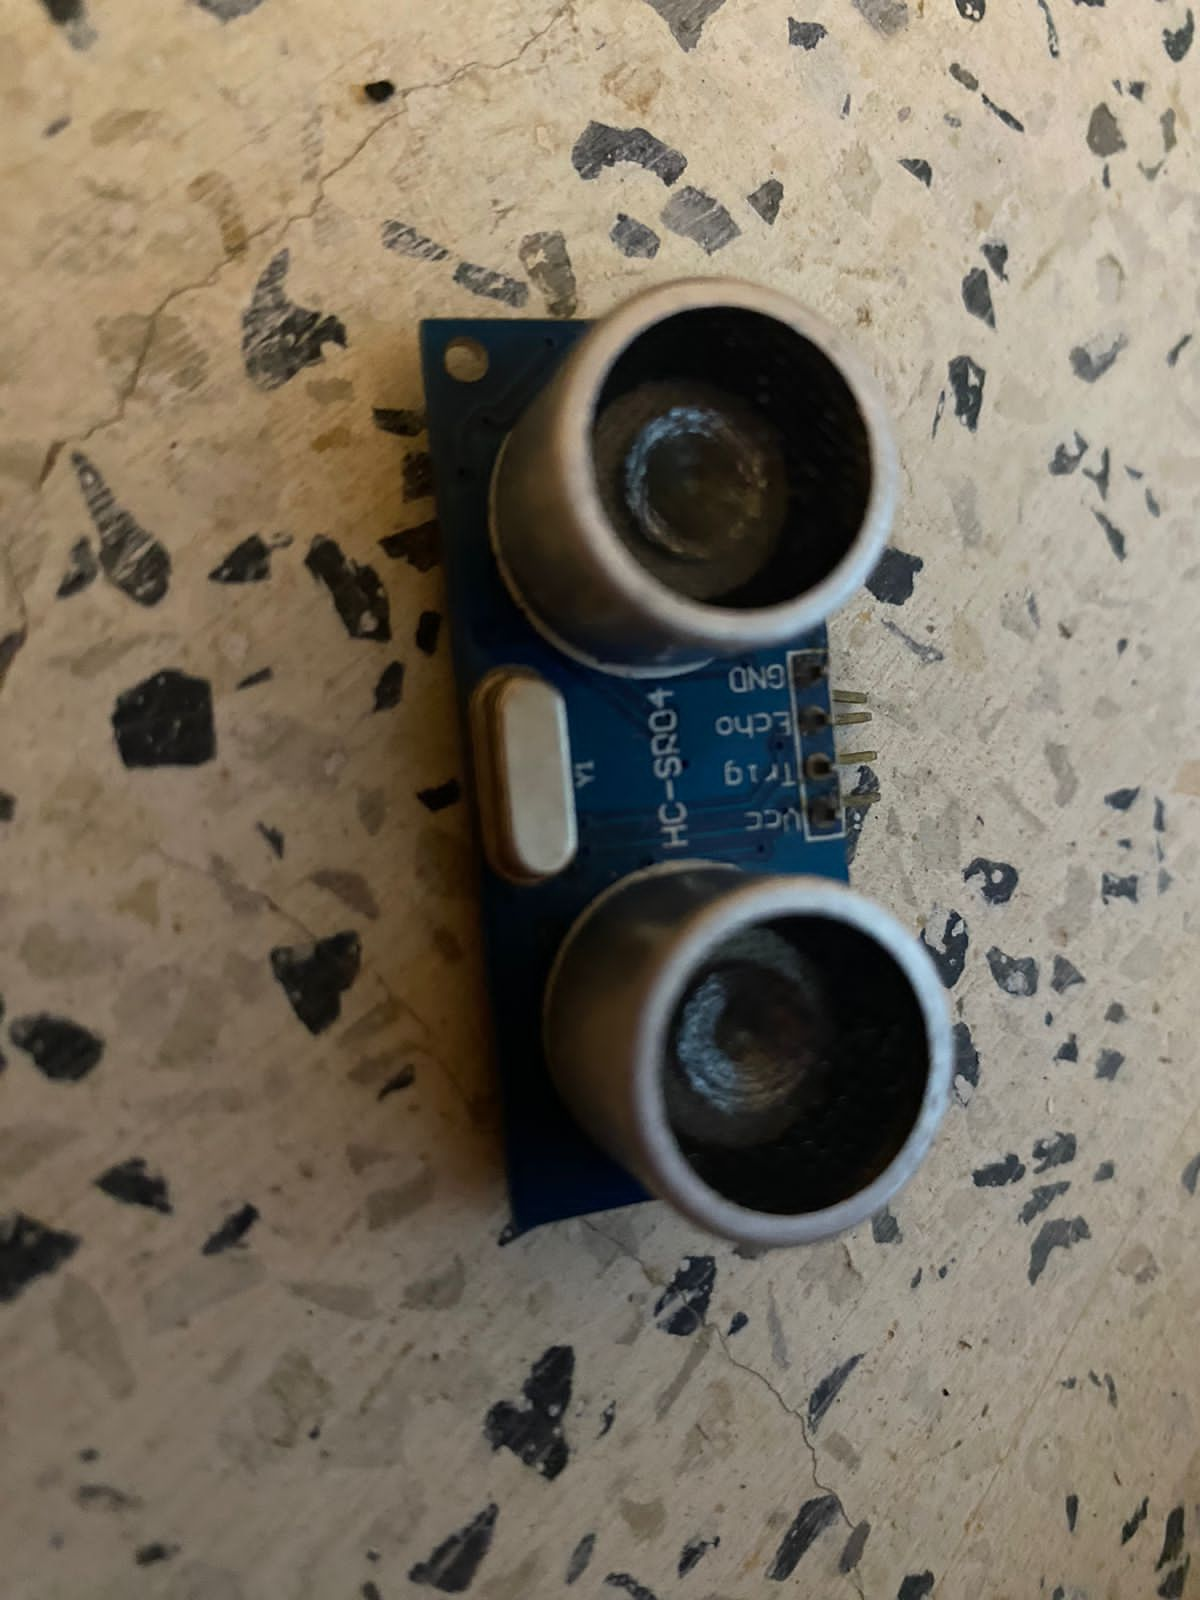capteur-ultrasonique: (377, 270, 961, 1264)
